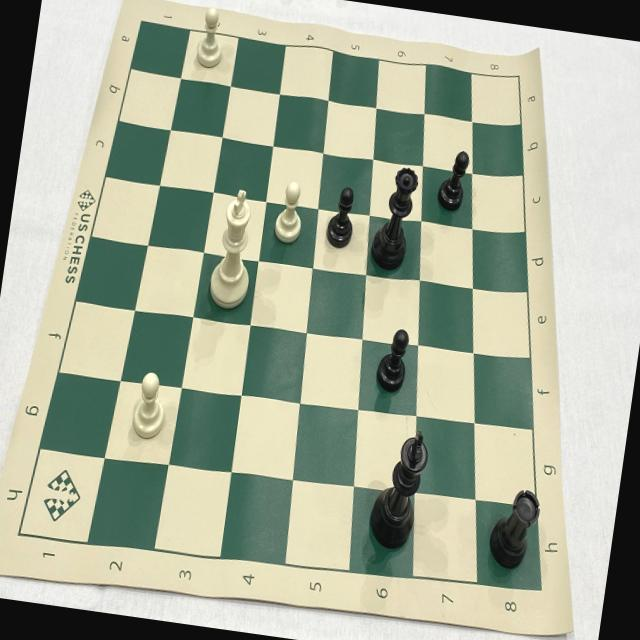black-king: (362, 420, 434, 561)
black-pawn: (367, 318, 418, 402), (430, 141, 476, 219), (320, 182, 362, 256)
black-queen: (362, 158, 424, 282)
black-rook: (479, 477, 546, 578)
white-king: (199, 183, 269, 316)
white-pawn: (122, 363, 174, 444), (185, 1, 235, 75), (266, 172, 311, 250)
